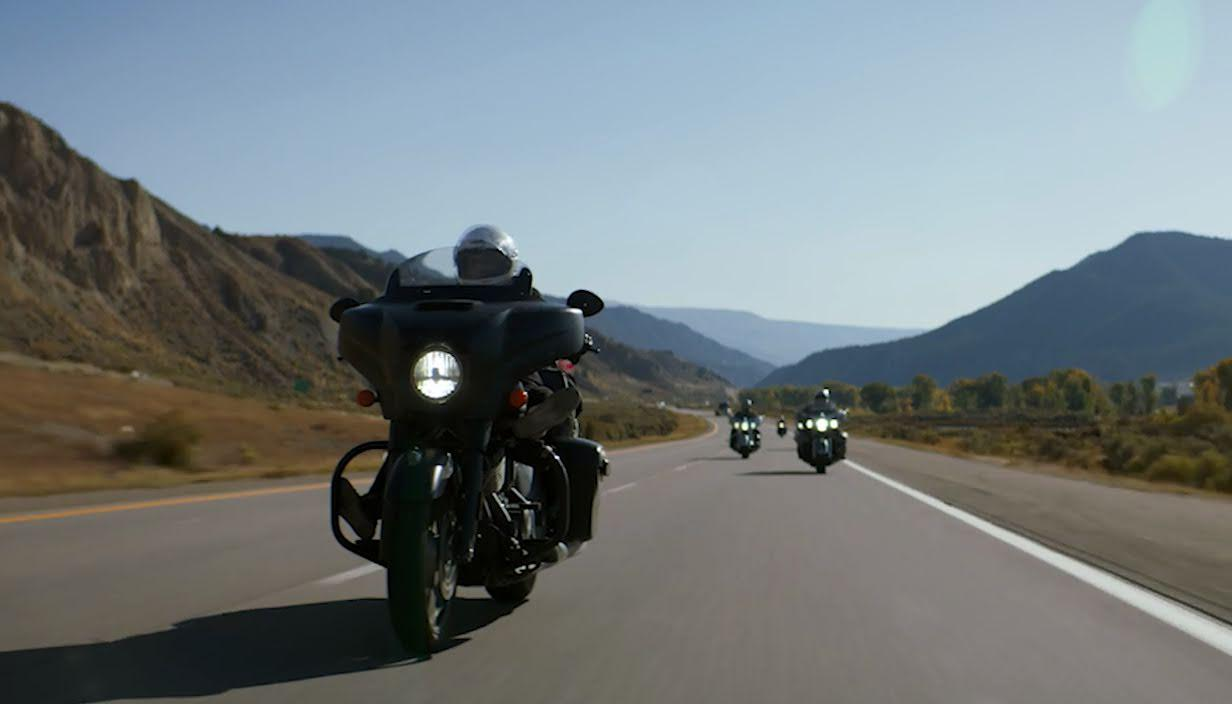motorcycle: (311, 271, 606, 659), (795, 403, 859, 474), (726, 414, 767, 461), (776, 420, 790, 437)
